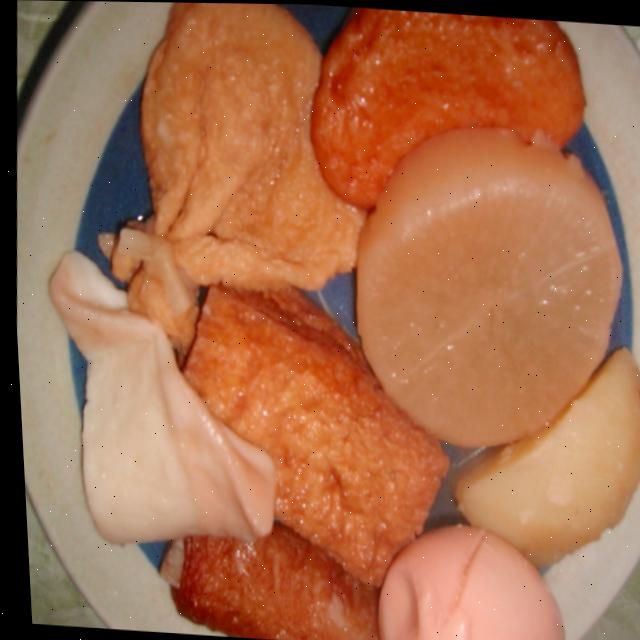汤锅炖物: (13, 0, 640, 640)
